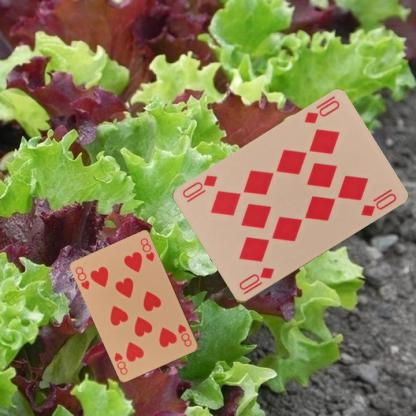10d: (301, 93, 341, 125), (235, 264, 276, 292)
8h: (73, 264, 91, 291), (175, 322, 193, 348)
